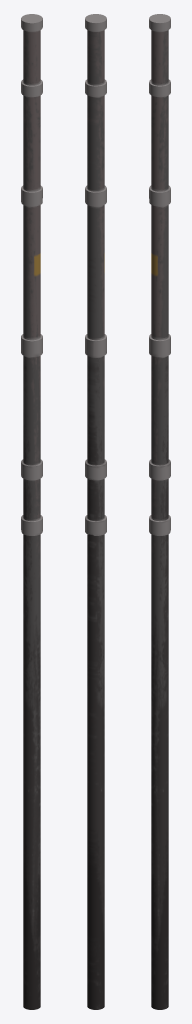
File: TelephonePole.fbx
The picture shows the model from 3 angles, left to right: view 1: azimuth 90°, elevation 25°; view 2: azimuth 150°, elevation 25°; view 3: azimuth 270°, elevation 25°; orthographic projection.
Visible parts, largest first — view 1: TelephonePole; view 2: TelephonePole; view 3: TelephonePole.
Part boxes in pixels (x1,y1,x2,y2): TelephonePole: (21,14,42,1009); TelephonePole: (85,14,106,1009); TelephonePole: (149,14,170,1009).
Bounding box in the file's own units: 69.58 × 3484 × 69.77.
Materials: 2 (2 with a texture image).
